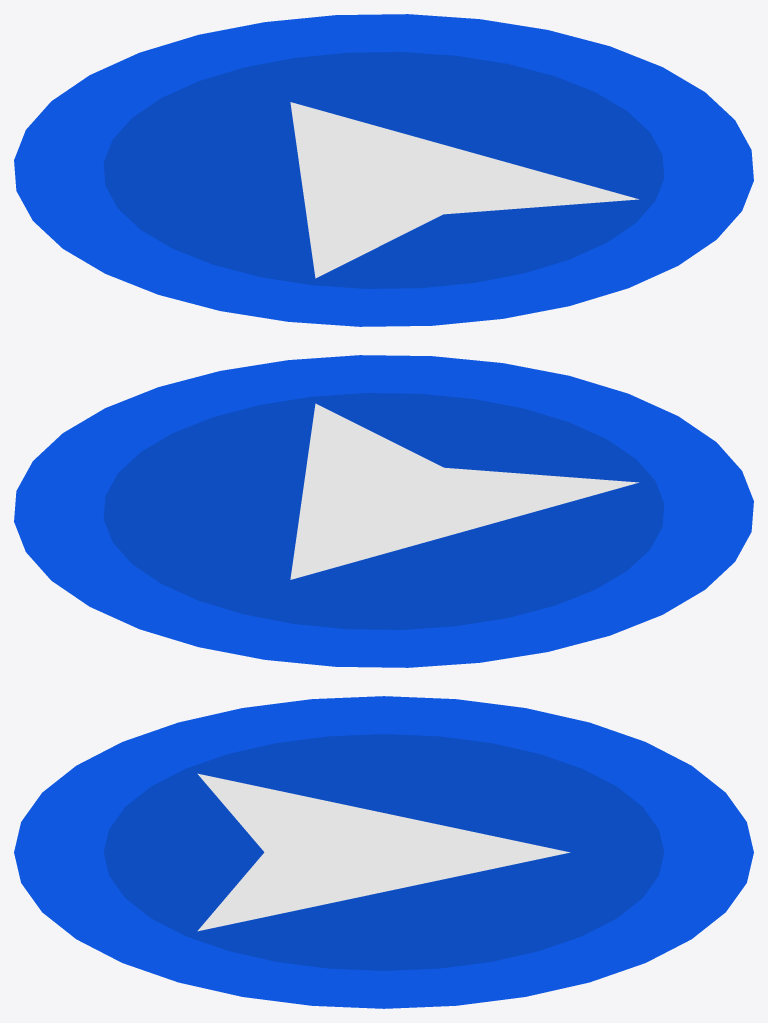
File: circlePlane3.fbx
The picture shows the model from 3 angles, top to bottom: view 1: azimuth 30°, elevation 25°; view 2: azimuth 150°, elevation 25°; view 3: azimuth 270°, elevation 25°; orthographic projection.
Visible parts, largest first — view 1: Disc, Tube, Polygon; view 2: Disc, Tube, Polygon; view 3: Disc, Tube, Polygon.
Boxes of the visible parts, x1,y1,x2,y2 form: Disc: (103, 52, 664, 288); Tube: (14, 14, 753, 326); Polygon: (290, 102, 638, 278); Disc: (103, 393, 664, 629); Tube: (14, 355, 753, 667); Polygon: (290, 403, 638, 579); Disc: (103, 734, 664, 970); Tube: (14, 696, 753, 1008); Polygon: (197, 773, 570, 931).
Bounding box in the file's own units: 1319 × 1.48 × 1319.
